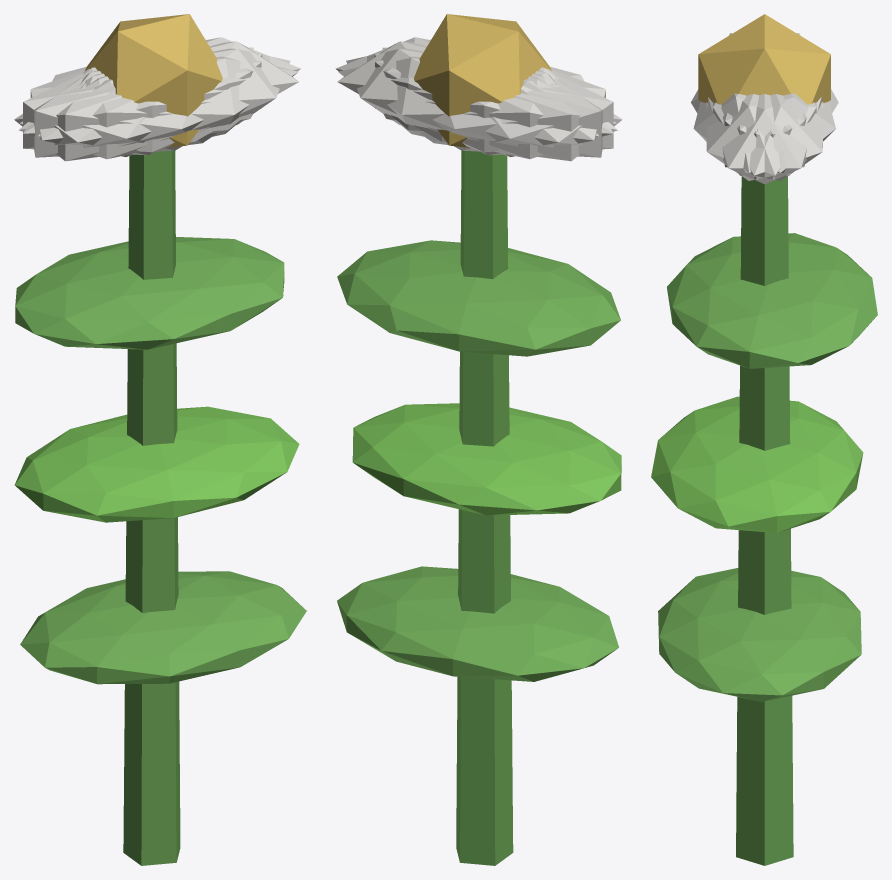
The model's file is phyllanthus-niruri.glb.
3 views of the same model, side by side, from view 1: azimuth 30°, elevation 25°; view 2: azimuth 150°, elevation 25°; view 3: azimuth 270°, elevation 25° (orthographic).
Visible parts, largest first — view 1: stem, leaf1, leaf0, leaf2, center, petal1, petal6, petal2, petal5, petal7, petal0, petal4 (+2 smaller); view 2: stem, leaf2, leaf1, leaf0, center, petal8, petal3, petal7, petal4, petal2, petal0, petal5 (+2 smaller); view 3: stem, leaf2, leaf1, leaf0, center, petal0, petal5, petal4, petal1, petal8.
Part boxes in pixels (x1,y1,x2,y2): stem: [123, 150, 180, 865]; leaf1: [14, 406, 299, 522]; leaf0: [20, 571, 306, 684]; leaf2: [15, 237, 284, 349]; center: [85, 14, 222, 147]; petal1: [18, 56, 298, 159]; petal6: [14, 69, 216, 161]; petal2: [34, 47, 253, 157]; petal5: [37, 48, 290, 152]; petal7: [23, 53, 262, 155]; petal0: [84, 41, 298, 142]; petal4: [20, 37, 300, 133]; stem: [456, 150, 513, 865]; leaf2: [337, 240, 620, 356]; leaf1: [352, 403, 621, 515]; leaf0: [337, 566, 618, 681]; center: [414, 14, 551, 147]; petal8: [338, 56, 617, 159]; petal3: [420, 69, 622, 161]; petal7: [382, 47, 602, 157]; petal4: [346, 48, 598, 152]; petal2: [374, 53, 613, 155]; petal0: [337, 41, 551, 142]; petal5: [335, 37, 616, 133]; stem: [736, 176, 793, 865]; leaf2: [667, 233, 877, 368]; leaf1: [651, 396, 863, 532]; leaf0: [658, 568, 861, 701]; center: [698, 14, 830, 104]; petal0: [708, 94, 821, 184]; petal5: [706, 94, 816, 180]; petal4: [713, 94, 823, 180]; petal1: [693, 93, 806, 173]; petal8: [723, 93, 835, 173].
Size of the model in its own units: 0.1452 by 0.4189 by 0.1048.
